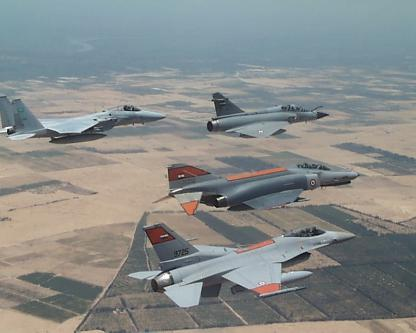F117: (0, 96, 166, 144)
F14: (128, 221, 357, 307)
F35: (152, 161, 361, 214)
Mirage2000: (206, 91, 330, 138)
